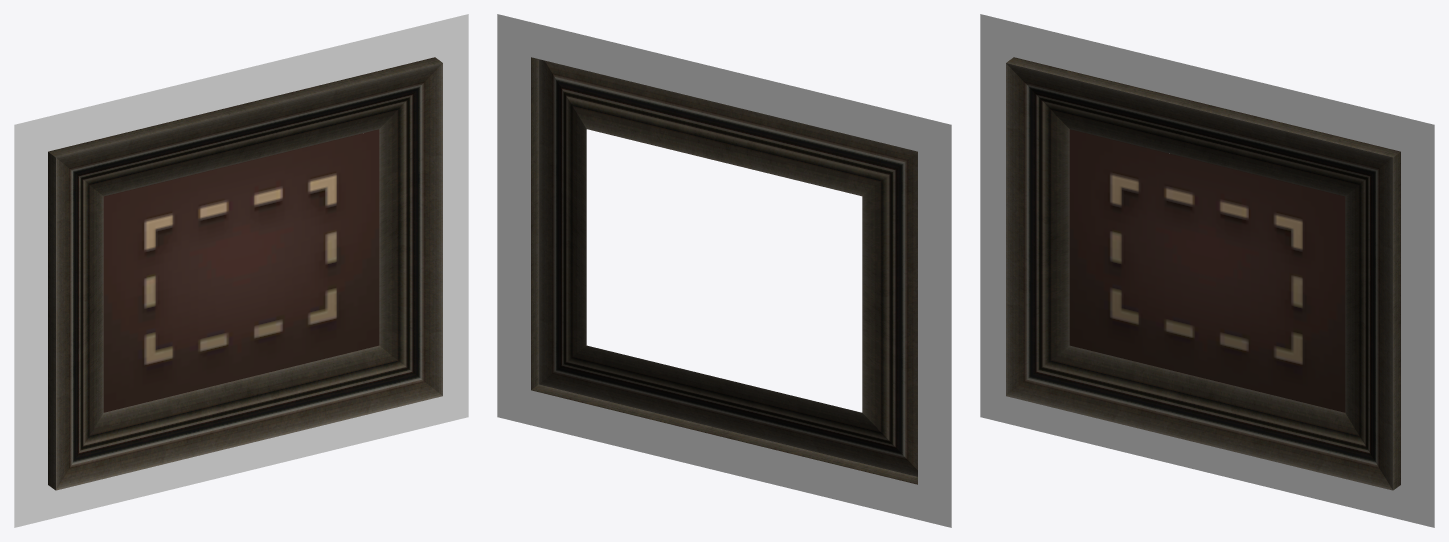
File: Frame_02_Small.dae
The picture shows the model from 3 angles, left to right: view 1: azimuth 30°, elevation 25°; view 2: azimuth 150°, elevation 25°; view 3: azimuth 330°, elevation 25°; orthographic projection.
Parts seen in each view (by area): view 1: Frame_02_Small (×3); view 2: Frame_02_Small (×2); view 3: Frame_02_Small (×3).
Part boxes in pixels (x1,y1,x2,y2): Frame_02_Small (×3): [14, 14, 468, 527]; Frame_02_Small (×2): [497, 14, 951, 527]; Frame_02_Small (×3): [980, 14, 1434, 527].
Size of the model in its own units: 272 by 231 by 8.27.
3 materials, 3 textured.
